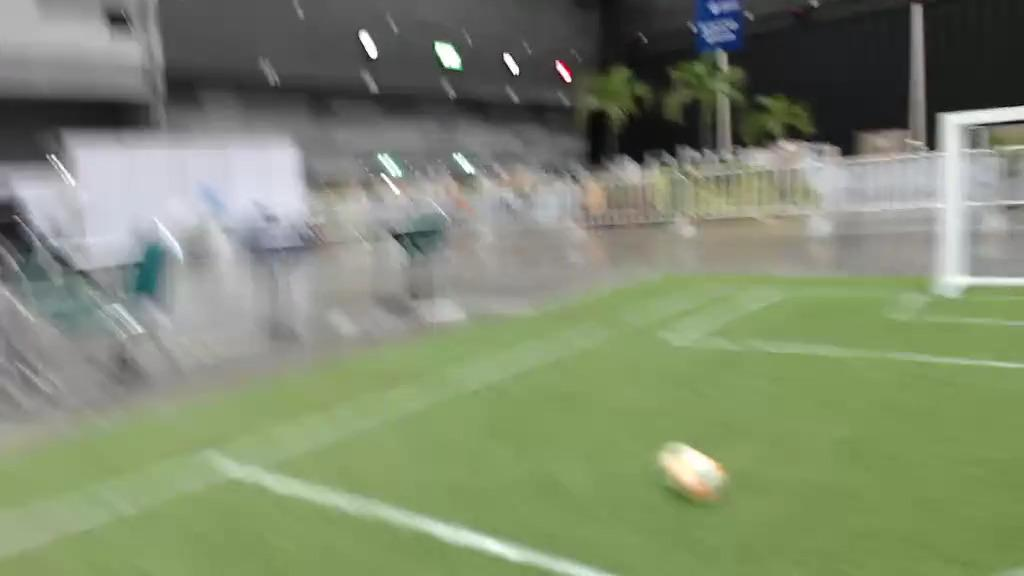ball: (649, 425, 749, 517)
